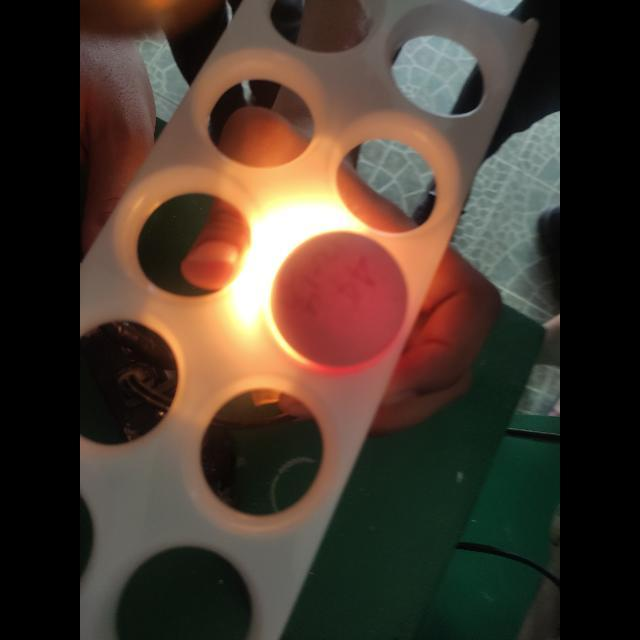Fertile: (272, 230, 406, 362)
